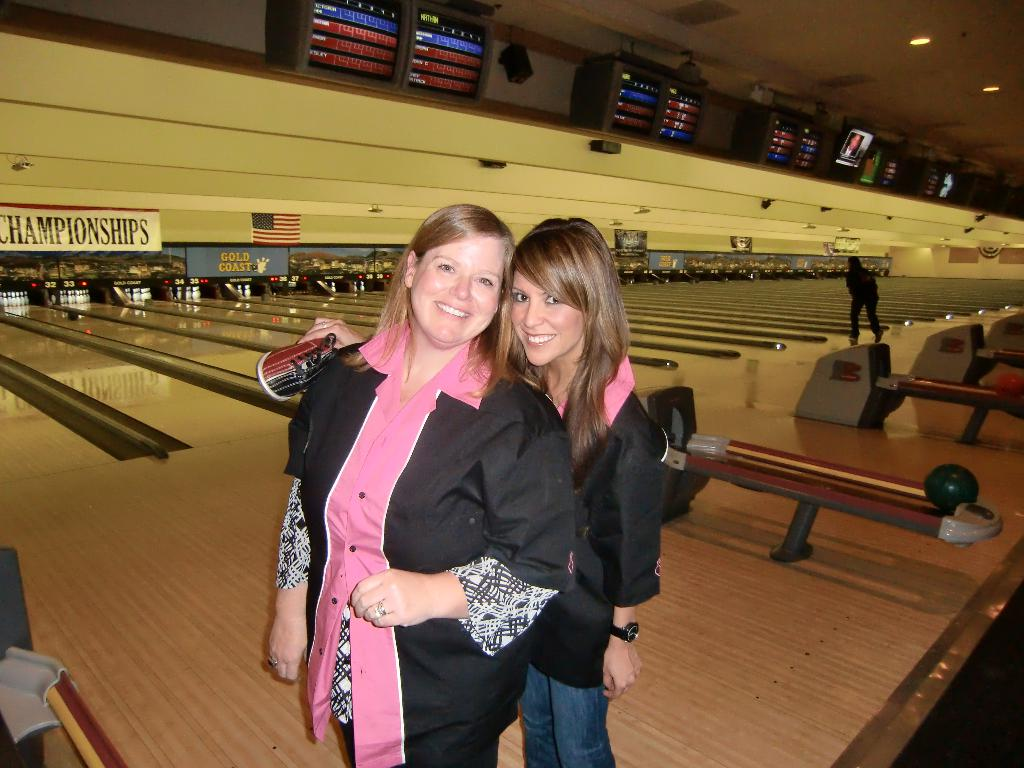Ball: (924, 463, 978, 516)
